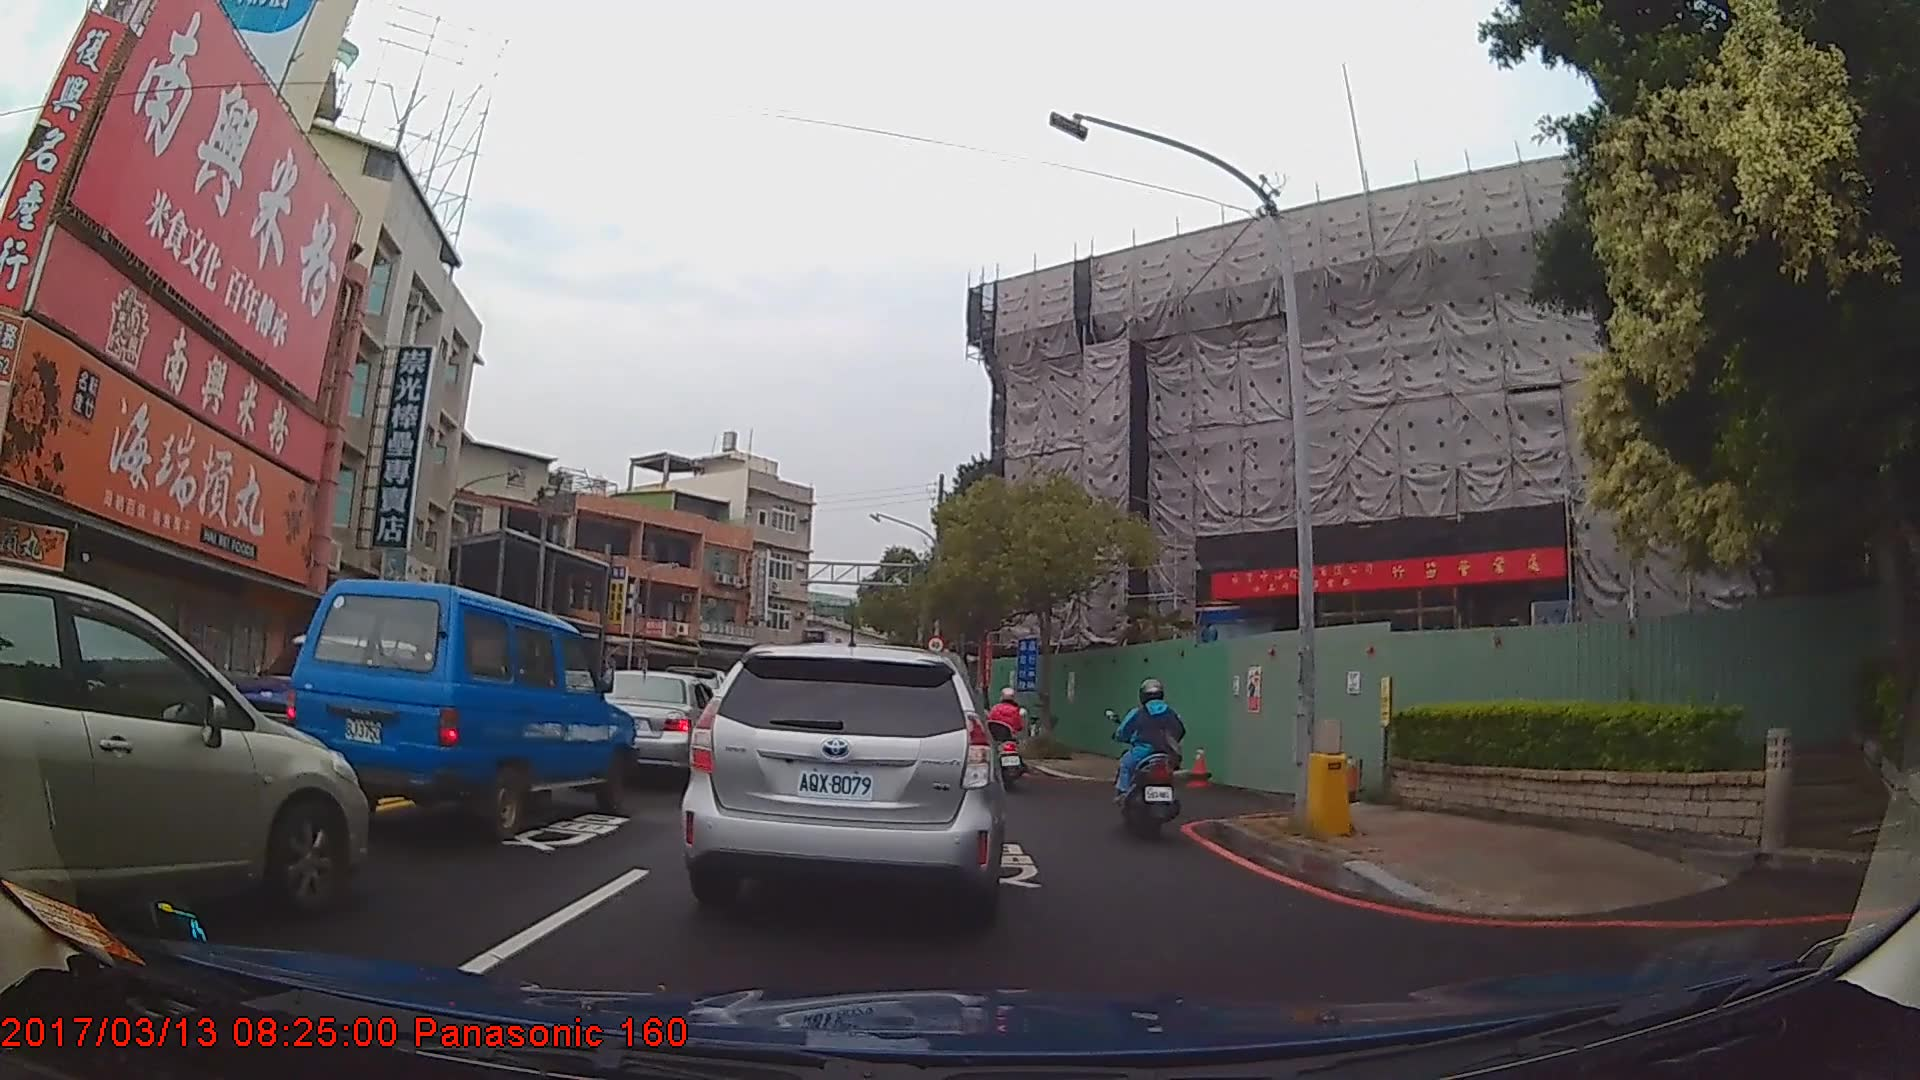rider: (1114, 679, 1185, 841), (986, 686, 1032, 793)
vehicle: (0, 564, 367, 937), (678, 640, 1005, 931), (282, 576, 637, 835), (587, 668, 725, 794)
